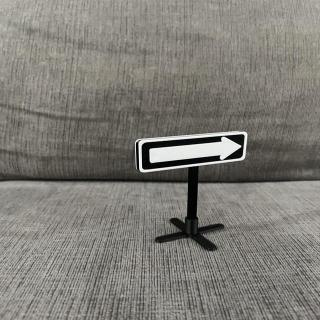sign_oneway_right: (137, 131, 250, 175)
